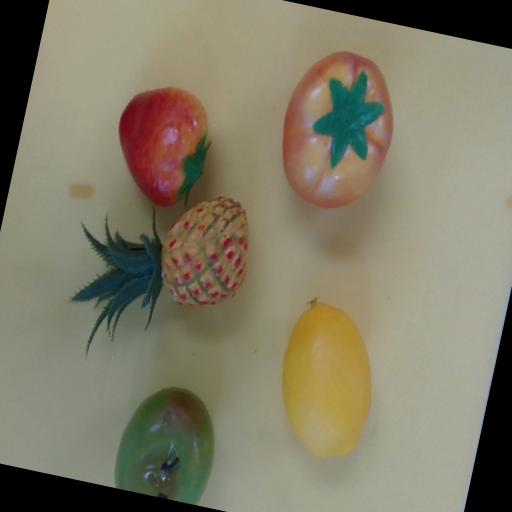apple: (110, 379, 225, 506)
lemon: (278, 296, 372, 458)
mango: (113, 82, 218, 212)
pineapple: (45, 173, 271, 351)
tomato: (263, 40, 410, 219)
